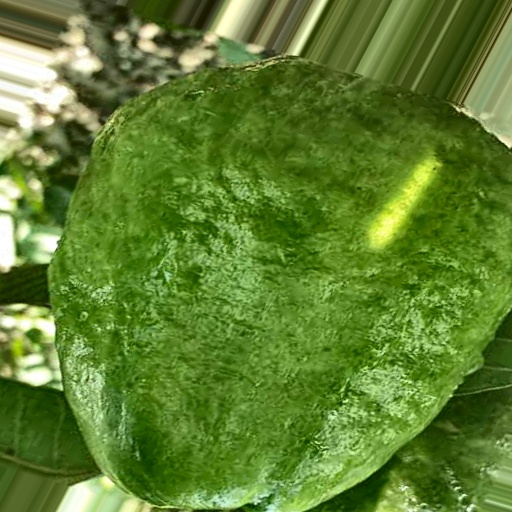guava: (39, 24, 476, 471)
